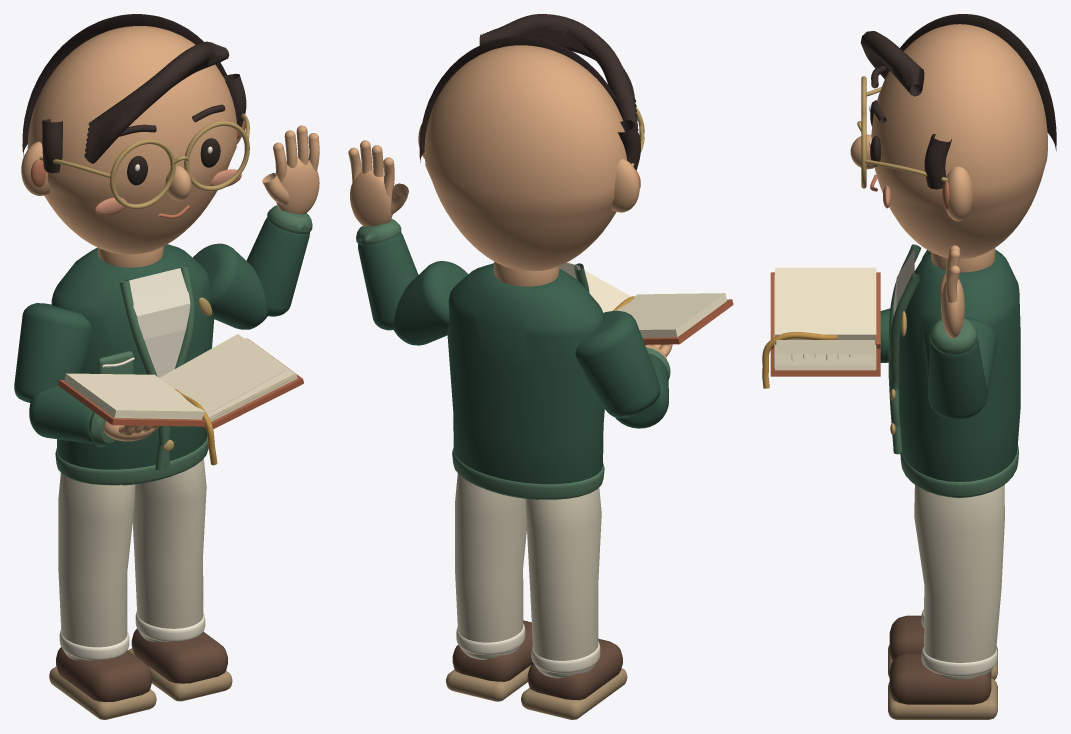
Rendered from librarian.glb.
The picture shows the model from 3 angles, left to right: view 1: azimuth 30°, elevation 25°; view 2: azimuth 150°, elevation 25°; view 3: azimuth 270°, elevation 25°; orthographic projection. The views are drawn at different scales.
Visible parts, largest first — view 1: Sculpted face, Continuous cardigan body, Canvas trouser -1, Canvas trouser 1, Book upper sleeve, Loose turning page, Visible cotton shirt, Paper block -1, Wave upper sleeve, Wave raised sleeve, Loafer 1, Loafer -1 (+27 smaller); view 2: Sculpted face, Continuous cardigan body, Canvas trouser -1, Canvas trouser 1, Book upper sleeve, Wave upper sleeve, Wave raised sleeve, Paper block -1, Swept fringe 0, Loafer -1, Cardigan knitted hem, Sculpted hair cap (+13 smaller); view 3: Sculpted face, Continuous cardigan body, Canvas trouser 1, Paper block -1, Wave raised sleeve, Loafer 1, Sculpted hair cap, Sole 1, Cardigan knitted hem, Paper block 1, Loose turning page, Cardigan lapel 1 (+15 smaller).
Part boxes in pixels (box(x1,y1,x2,y2)): Sculpted face: box(27, 26, 237, 254); Continuous cardigan body: box(51, 244, 214, 485); Canvas trouser -1: box(58, 472, 135, 660); Canvas trouser 1: box(132, 458, 206, 641); Book upper sleeve: box(14, 303, 91, 402); Loose turning page: box(159, 334, 286, 414); Visible cotton shirt: box(129, 268, 190, 377); Paper block -1: box(64, 373, 204, 419); Wave upper sleeve: box(193, 243, 268, 329); Wave raised sleeve: box(246, 217, 309, 316); Loafer 1: box(131, 628, 227, 683); Loafer -1: box(56, 647, 152, 702); Sculpted face: box(424, 45, 626, 271); Continuous cardigan body: box(447, 263, 604, 499); Canvas trouser -1: box(525, 487, 601, 678); Canvas trouser 1: box(455, 473, 526, 659); Book upper sleeve: box(575, 310, 660, 418); Wave upper sleeve: box(392, 261, 468, 345); Wave raised sleeve: box(358, 232, 418, 330); Paper block -1: box(616, 293, 726, 337); Swept fringe 0: box(493, 14, 635, 107); Loafer -1: box(527, 638, 622, 700); Cardigan knitted hem: box(452, 448, 604, 499); Sculpted hair cap: box(419, 36, 625, 162); Sculpted face: box(871, 24, 1047, 259); Continuous cardigan body: box(898, 249, 1020, 498); Canvas trouser 1: box(914, 485, 1004, 680); Paper block -1: box(775, 267, 876, 341); Wave raised sleeve: box(928, 338, 987, 419); Loafer 1: box(889, 653, 991, 704); Sculpted hair cap: box(885, 14, 1056, 151); Sole 1: box(888, 678, 997, 719); Cardigan knitted hem: box(900, 445, 1018, 497); Paper block 1: box(775, 344, 876, 370); Loose turning page: box(776, 340, 874, 354); Cardigan lapel 1: box(888, 273, 920, 454).
Size of the model in its own units: 1.49 by 3.07 by 1.23.
